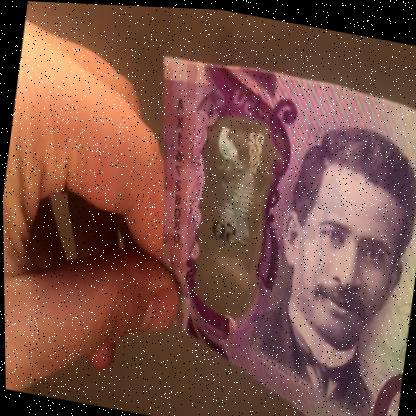50F: (192, 112, 273, 293)
